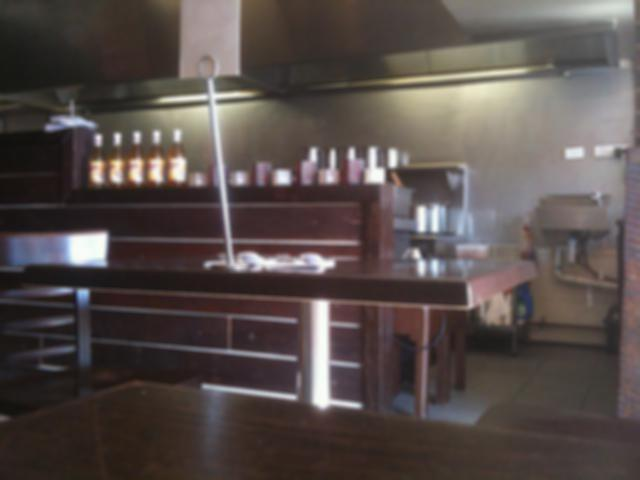Lavaplatos: (534, 184, 607, 237)
